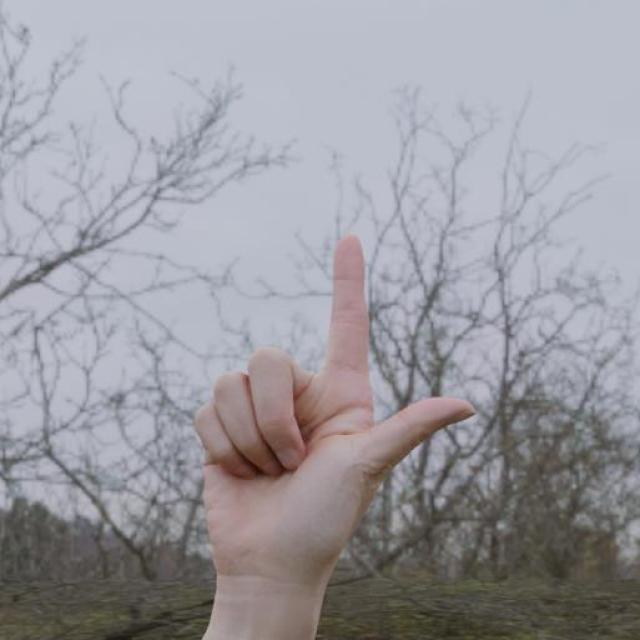L: (191, 231, 481, 590)
